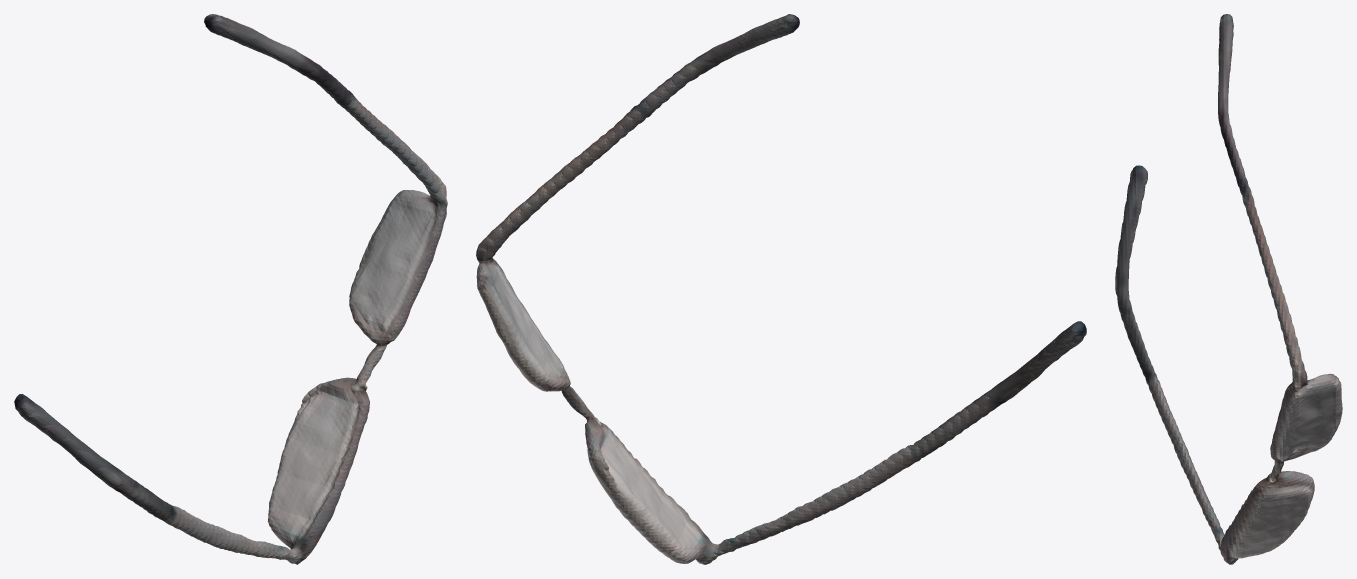
File: glasses.glb
The picture shows the model from 3 angles, left to right: view 1: azimuth 30°, elevation 25°; view 2: azimuth 150°, elevation 25°; view 3: azimuth 270°, elevation 25°; orthographic projection. The views are drawn at different scales.
Parts seen in each view (by area): view 1: world; view 2: world; view 3: world.
Boxes of the visible parts, x1,y1,x2,y2 form: world: (14, 14, 447, 564); world: (476, 14, 1086, 564); world: (1115, 14, 1342, 564).
Bounding box in the file's own units: 1.17 × 1.23 × 0.4963.
